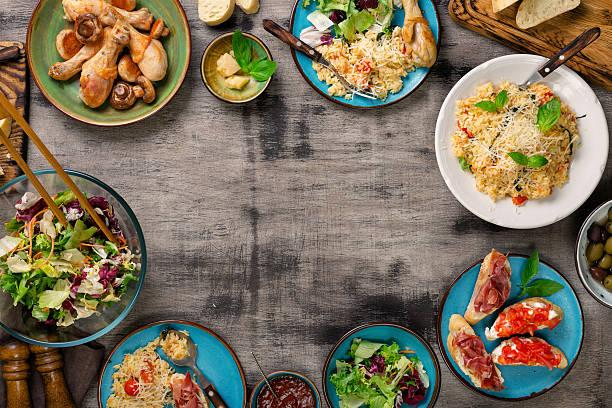Braised Crucian Carp: (429, 49, 606, 234), (2, 166, 147, 342), (439, 250, 588, 401), (26, 1, 191, 127), (289, 0, 433, 108), (97, 318, 253, 408)
